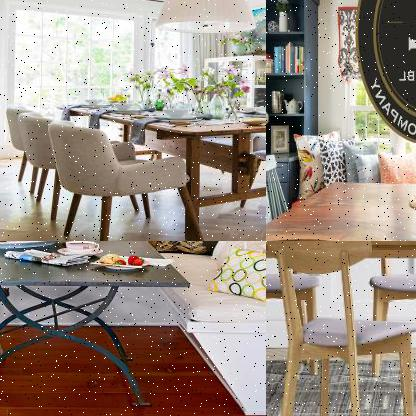table: (0, 241, 203, 414), (52, 94, 265, 240), (266, 241, 415, 415), (266, 175, 415, 240)
